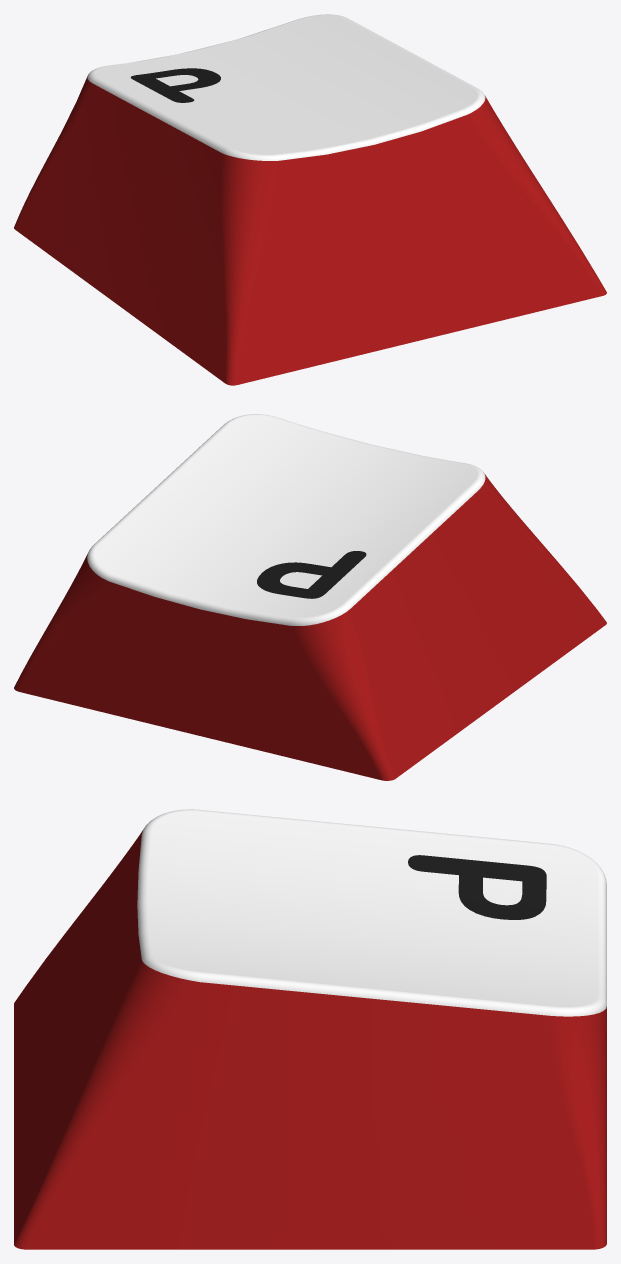
The picture shows the model from 3 angles, top to bottom: view 1: azimuth 30°, elevation 25°; view 2: azimuth 150°, elevation 25°; view 3: azimuth 270°, elevation 25°; orthographic projection. The views are drawn at different scales.
Visible parts, largest first — view 1: Body1; view 2: Body1; view 3: Body1.
Boxes of the visible parts, left/top/right/bottom form: Body1: left=14, top=14, right=606, bottom=385; Body1: left=14, top=414, right=606, bottom=780; Body1: left=14, top=809, right=606, bottom=1249.
Size of the model in its own units: 18 by 7.85 by 18.
